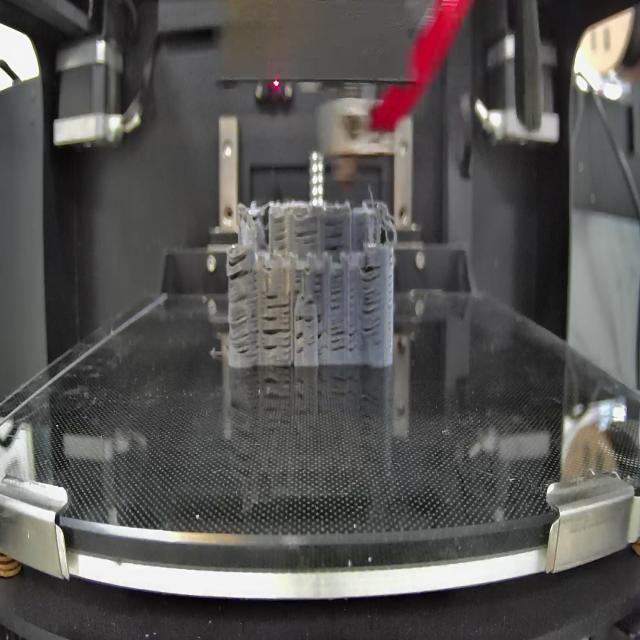cracks: (329, 271, 358, 354), (360, 262, 386, 340), (230, 292, 260, 358), (262, 312, 290, 360), (323, 216, 346, 252), (294, 217, 319, 250), (228, 251, 255, 281), (272, 217, 289, 250), (266, 290, 291, 312), (296, 310, 323, 325), (292, 268, 304, 298), (313, 266, 325, 296), (294, 329, 306, 358), (319, 328, 325, 359), (304, 297, 316, 307)
